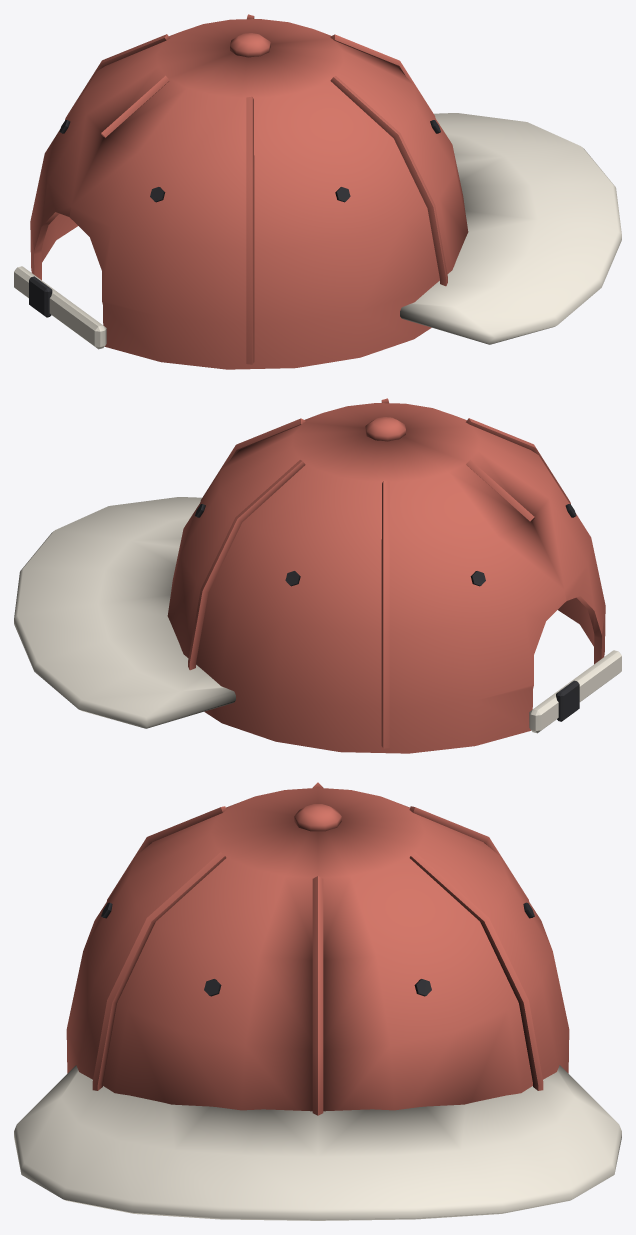
File: wear_cap.glb
3 renders of one model, top to bottom at view 1: azimuth 30°, elevation 25°; view 2: azimuth 150°, elevation 25°; view 3: azimuth 270°, elevation 25°, orthographic. The views are drawn at different scales.
Visible parts, largest first — view 1: PART; view 2: PART; view 3: PART.
Part boxes in pixels (x1,y1,x2,y2): PART: (14, 14, 621, 369); PART: (14, 398, 621, 753); PART: (14, 782, 621, 1220).
Size of the model in its own units: 0.2685 by 0.1157 by 0.233.
